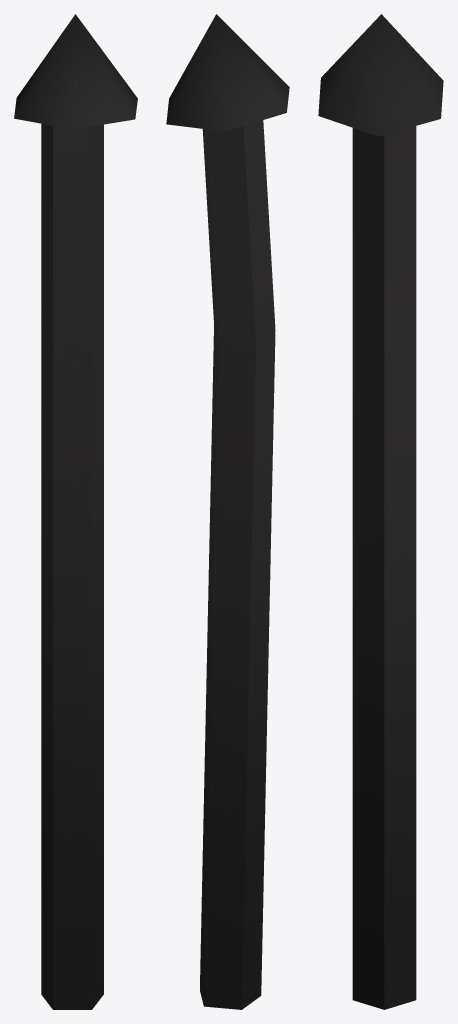
File: fanasty_mod_chimney_pipe04.fbx
3 renders of one model, left to right at view 1: azimuth 90°, elevation 25°; view 2: azimuth 150°, elevation 25°; view 3: azimuth 270°, elevation 25°, orthographic.
Parts seen in each view (by area): view 1: chimney_pipe_04; view 2: chimney_pipe_04; view 3: chimney_pipe_04.
Part boxes in pixels (<box>): chimney_pipe_04: <box>14,14,137,1009</box>; chimney_pipe_04: <box>166,14,289,1009</box>; chimney_pipe_04: <box>318,14,443,1009</box>.
Size of the model in its own units: 1.24 by 9.67 by 1.11.
